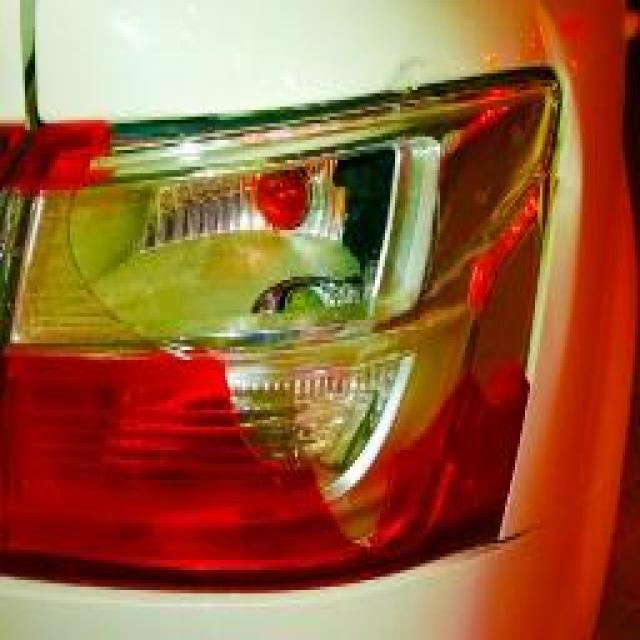Light: (22, 93, 515, 530)
